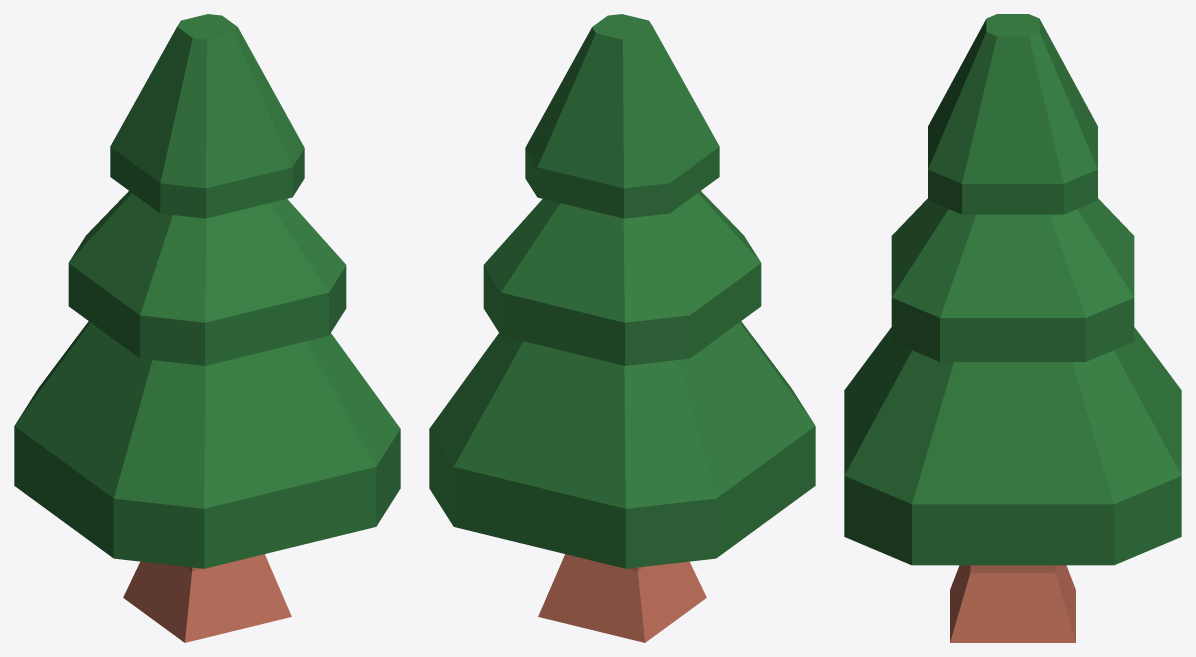
Rendered from tree_pineSmallA.glb.
3 views of the same model, side by side, from view 1: azimuth 30°, elevation 25°; view 2: azimuth 150°, elevation 25°; view 3: azimuth 270°, elevation 25° (orthographic).
Visible parts, largest first — view 1: tree_pineSmallA; view 2: tree_pineSmallA; view 3: tree_pineSmallA.
Boxes of the visible parts, x1=… form: tree_pineSmallA: x1=14, y1=14, x2=400, y2=642; tree_pineSmallA: x1=429, y1=14, x2=815, y2=642; tree_pineSmallA: x1=844, y1=14, x2=1181, y2=642.
Bounding box in the file's own units: 0.5 × 0.9672 × 0.5.
